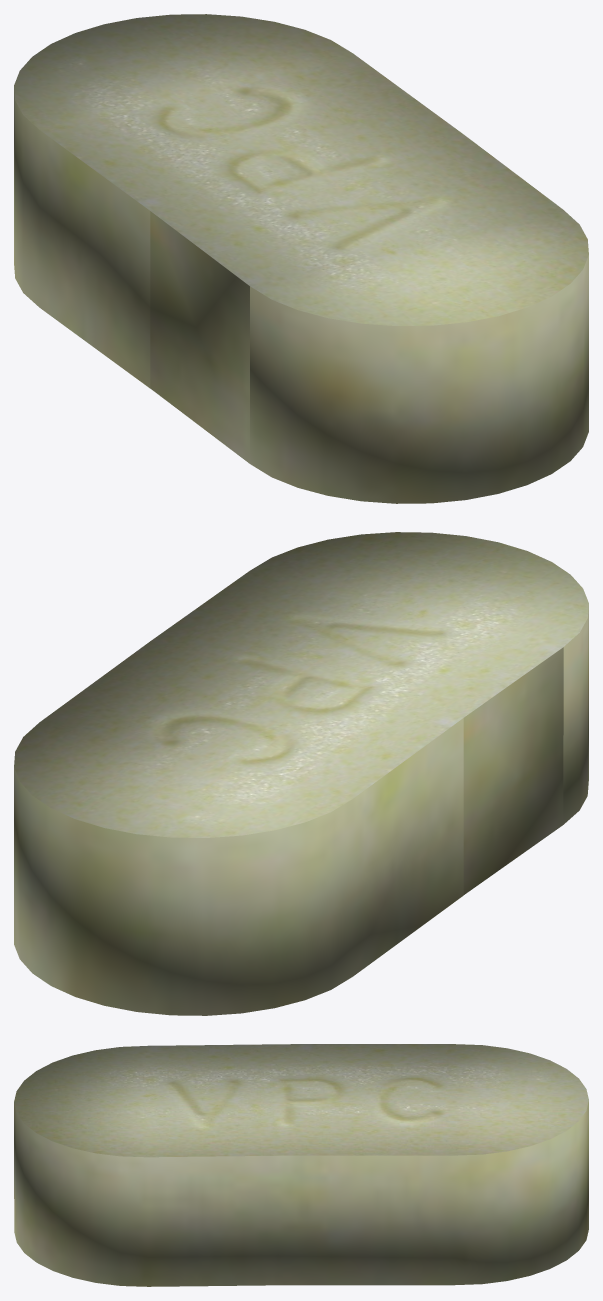
3 views of the same model, one above another, from view 1: azimuth 30°, elevation 25°; view 2: azimuth 150°, elevation 25°; view 3: azimuth 270°, elevation 25° (orthographic). The views are drawn at different scales.
Visible parts, largest first — view 1: 圓柱體; view 2: 圓柱體; view 3: 圓柱體.
Boxes of the visible parts, box(x1,y1,x2,y2) form: 圓柱體: box(14, 14, 588, 503); 圓柱體: box(14, 532, 588, 1015); 圓柱體: box(14, 1044, 588, 1286).
Bounding box in the file's own units: 0.9174 × 0.5061 × 2.
1 material, 1 textured.
